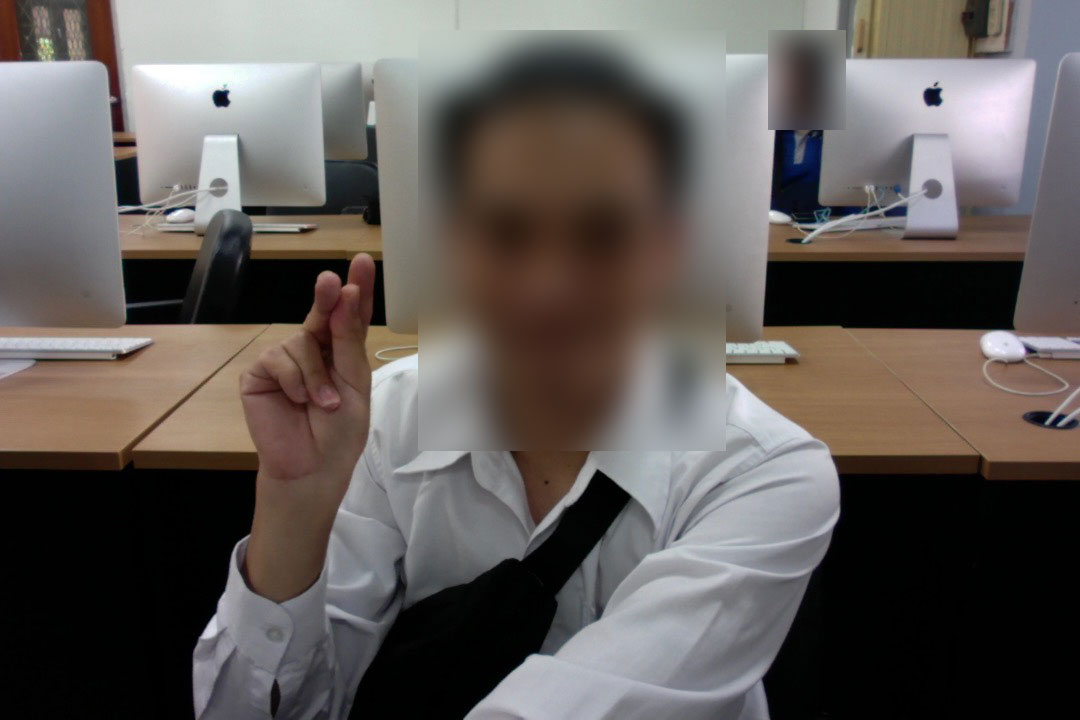ko: (233, 241, 386, 507)
